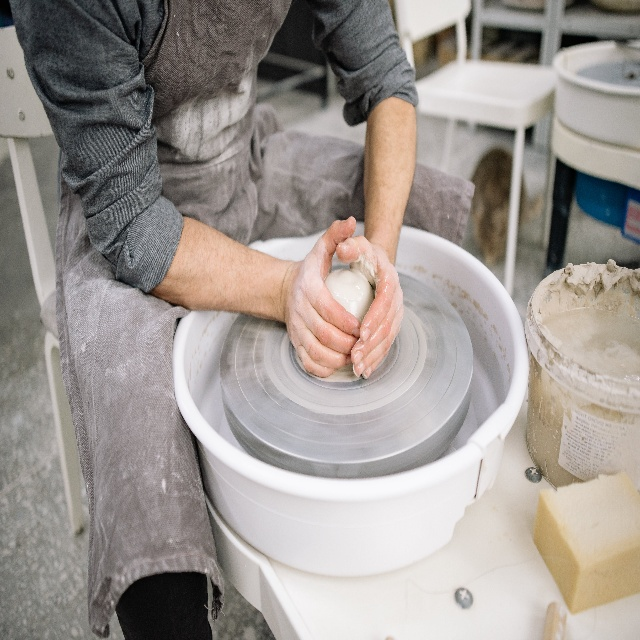Sin_guantes: (284, 215, 360, 378), (335, 234, 404, 380)
